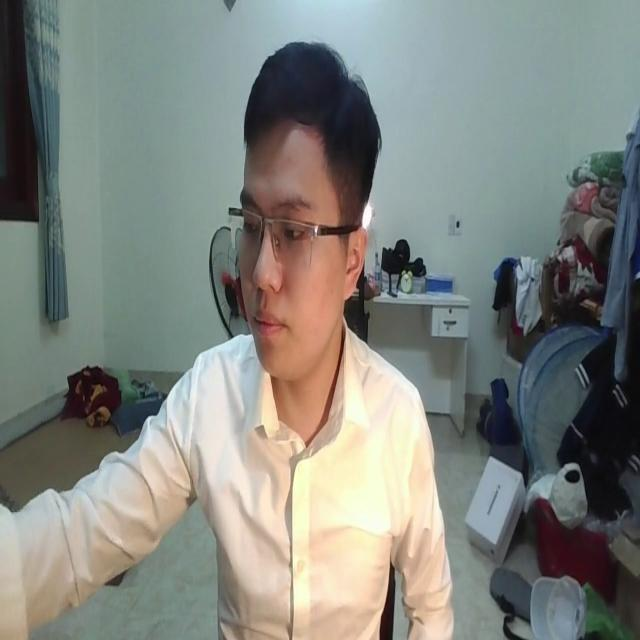student: (2, 32, 450, 640)
